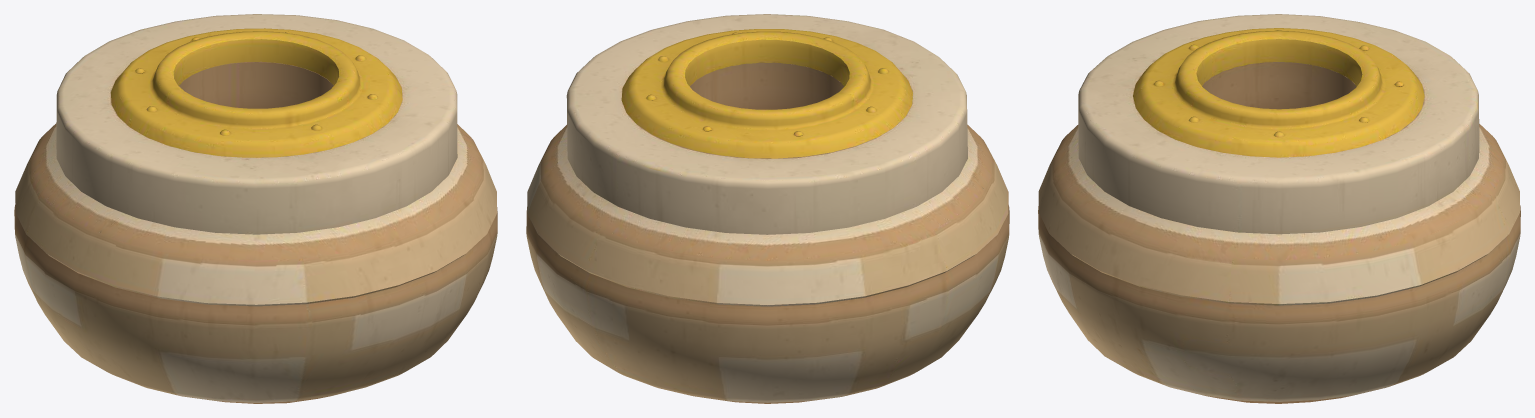
Rendered from mother-tree-collar.glb.
3 renders of one model, left to right at view 1: azimuth 30°, elevation 25°; view 2: azimuth 150°, elevation 25°; view 3: azimuth 270°, elevation 25°, orthographic.
Parts seen in each view (by area): view 1: base, collar; view 2: base, collar; view 3: base, collar.
Boxes of the visible parts, box(x1,y1,x2,y2) form: base: box(14, 14, 497, 403); collar: box(110, 28, 402, 157); base: box(526, 14, 1009, 403); collar: box(621, 29, 912, 158); base: box(1038, 14, 1520, 403); collar: box(1133, 28, 1424, 157).
Bounding box in the file's own units: 1.49 × 0.9272 × 1.49.
5 materials, 5 textured.
